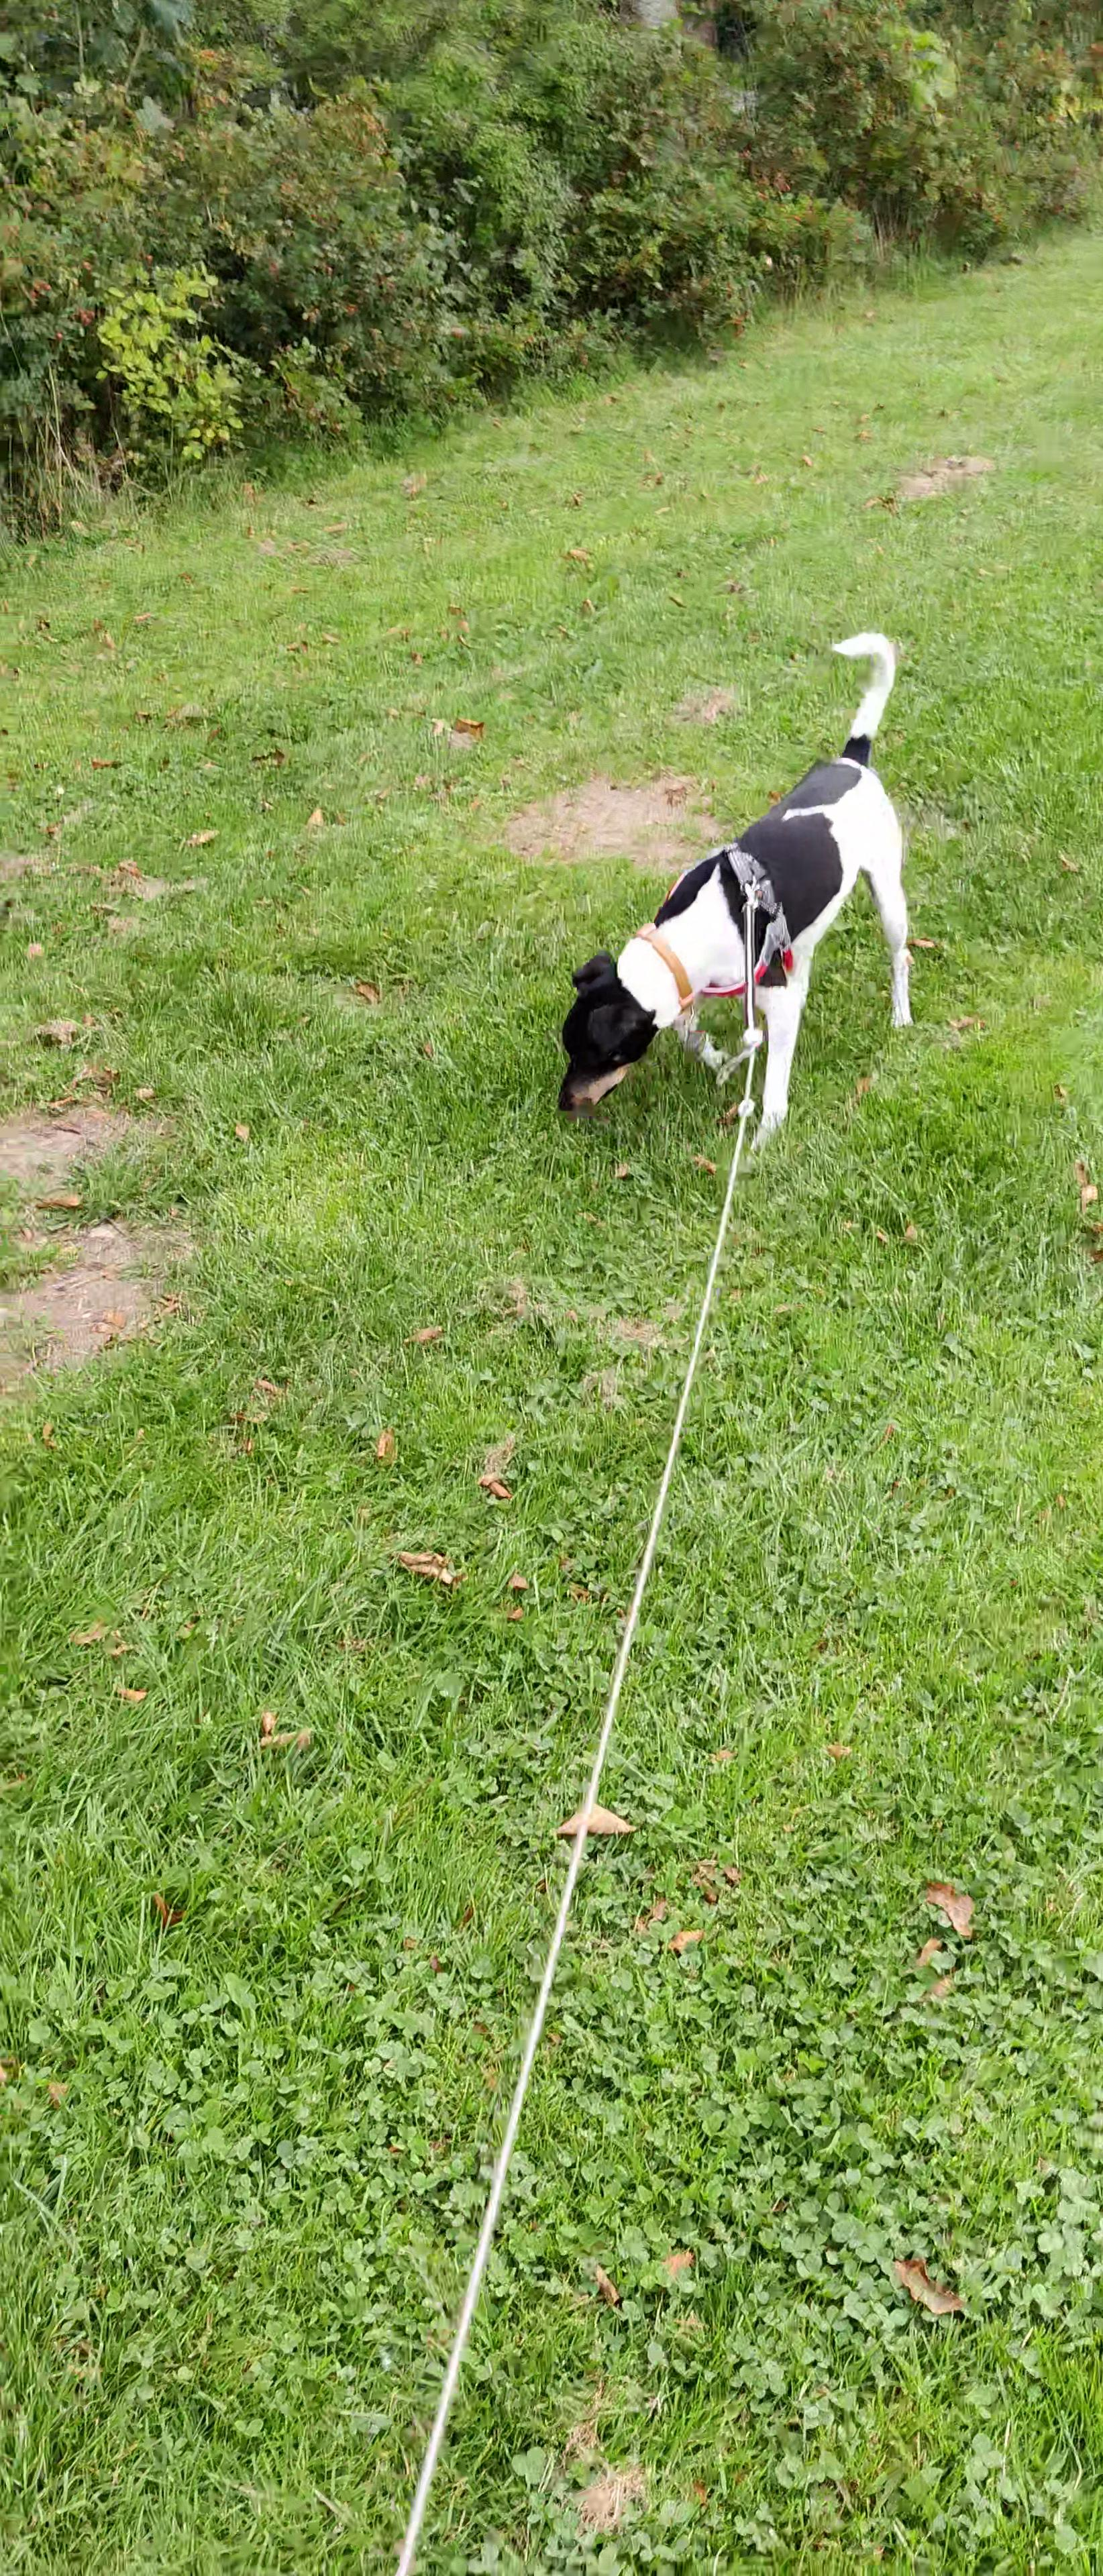Dog: (536, 611, 925, 1183)
